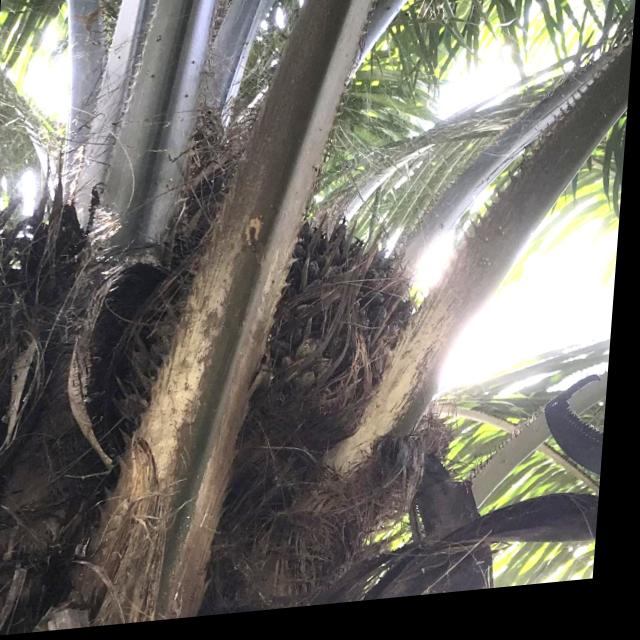almost: (231, 207, 442, 506)
